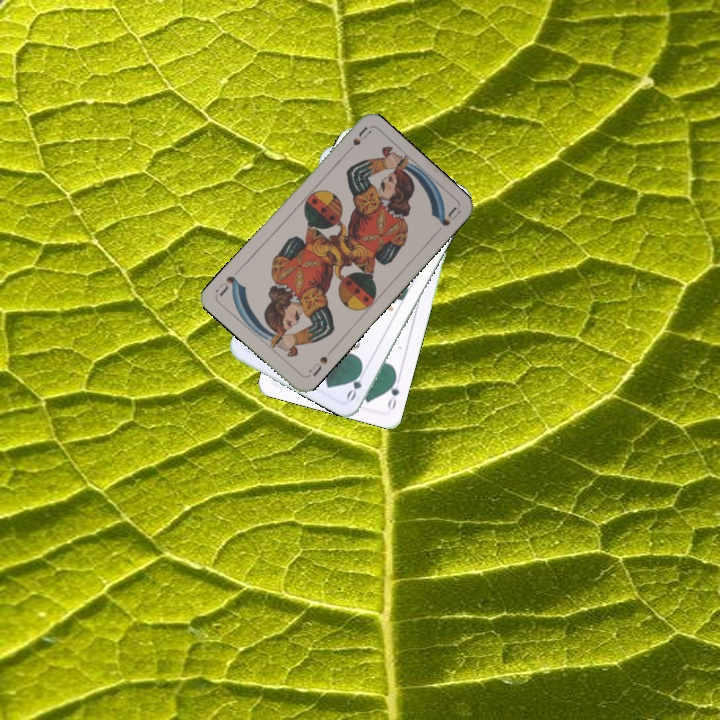GO: (342, 363, 369, 403), (383, 372, 402, 412)
SU: (340, 123, 373, 159), (305, 346, 334, 379)
